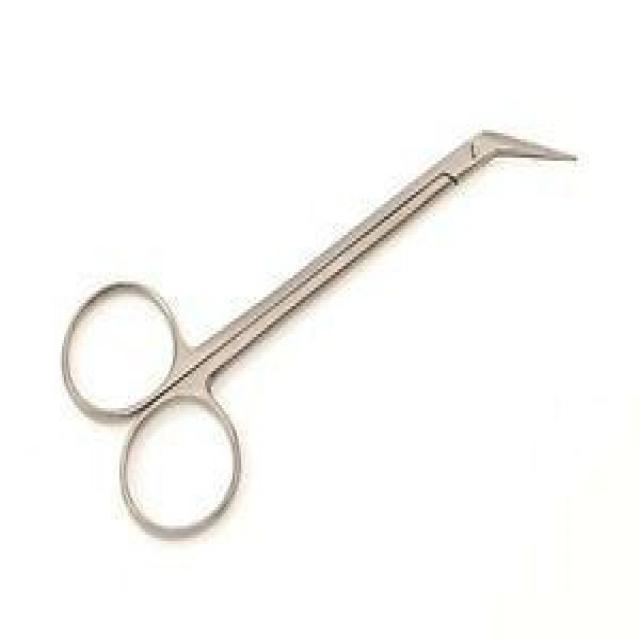Potts: (58, 123, 582, 544)
